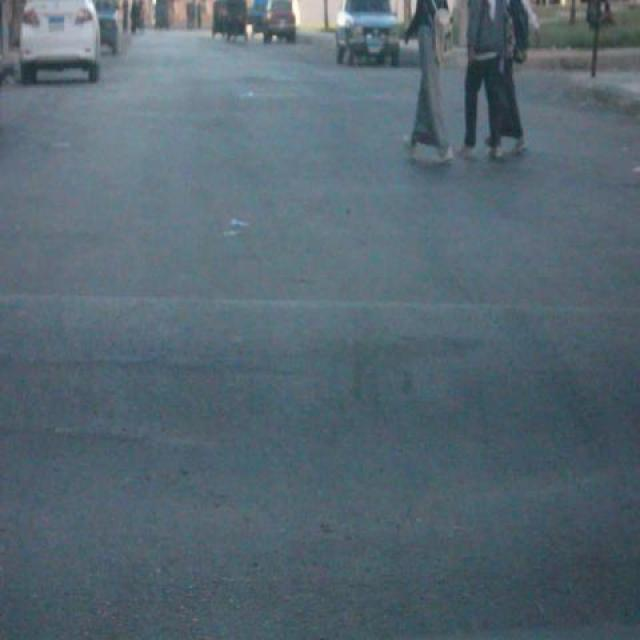Pothole: (0, 360, 304, 460)
Unmarked Bump: (0, 288, 640, 460)
